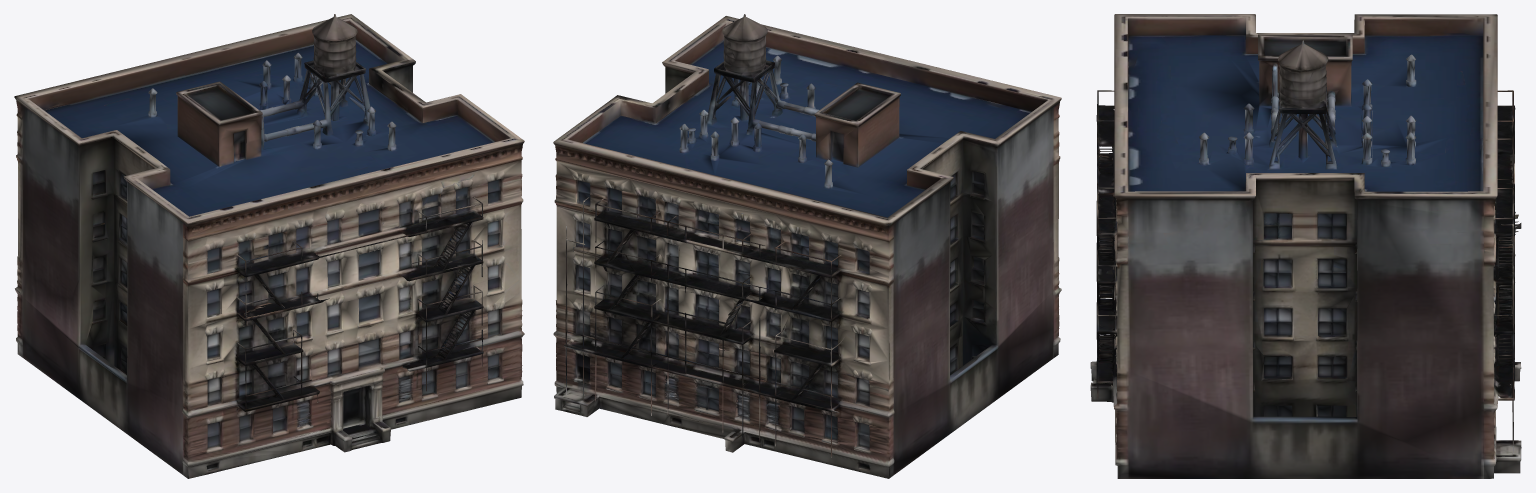
Rendered from prewar_6storey.glb.
3 views of the same model, side by side, from view 1: azimuth 30°, elevation 25°; view 2: azimuth 150°, elevation 25°; view 3: azimuth 270°, elevation 25° (orthographic). The views are drawn at different scales.
Visible parts, largest first — view 1: node_0; view 2: node_0; view 3: node_0.
Part boxes in pixels (bbox=[...]): node_0: bbox=[14, 14, 524, 478]; node_0: bbox=[553, 14, 1061, 478]; node_0: bbox=[1090, 14, 1521, 478].
Size of the model in its own units: 0.7155 by 0.7039 by 0.7168.
1 material, 1 textured.
